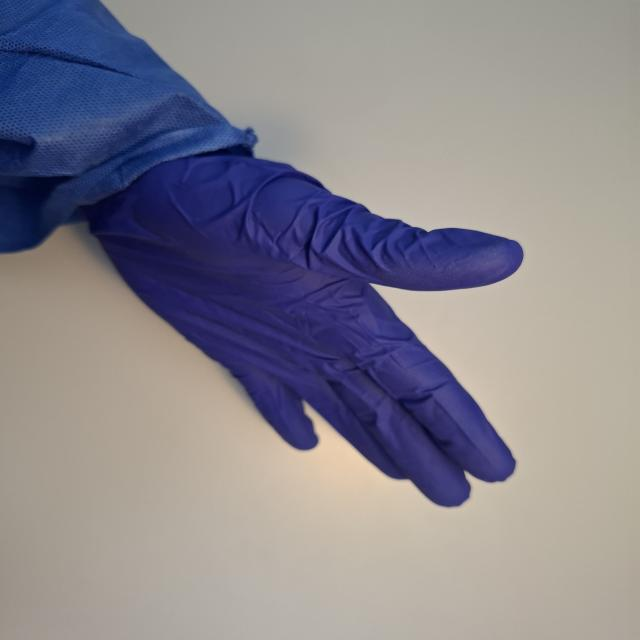glove_on: (78, 138, 529, 510)
